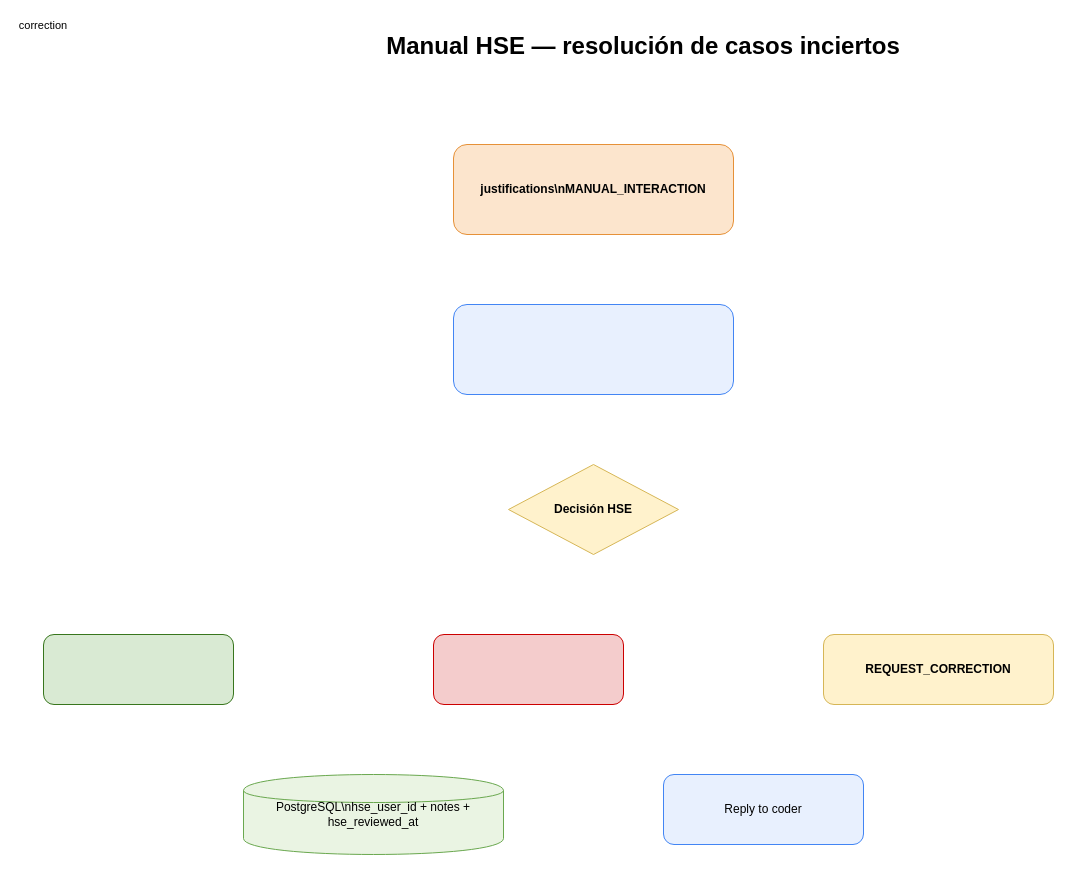
Image size: 1071x872. Some labels were removed from this diagram. Each missing label, with the centre of its shape:
"APPROVED" goes at point 138,669.
"DISAPPROVED" goes at point 528,669.
"HSE Dashboard\ncorreo original + evidencia + IA" goes at point 593,349.
